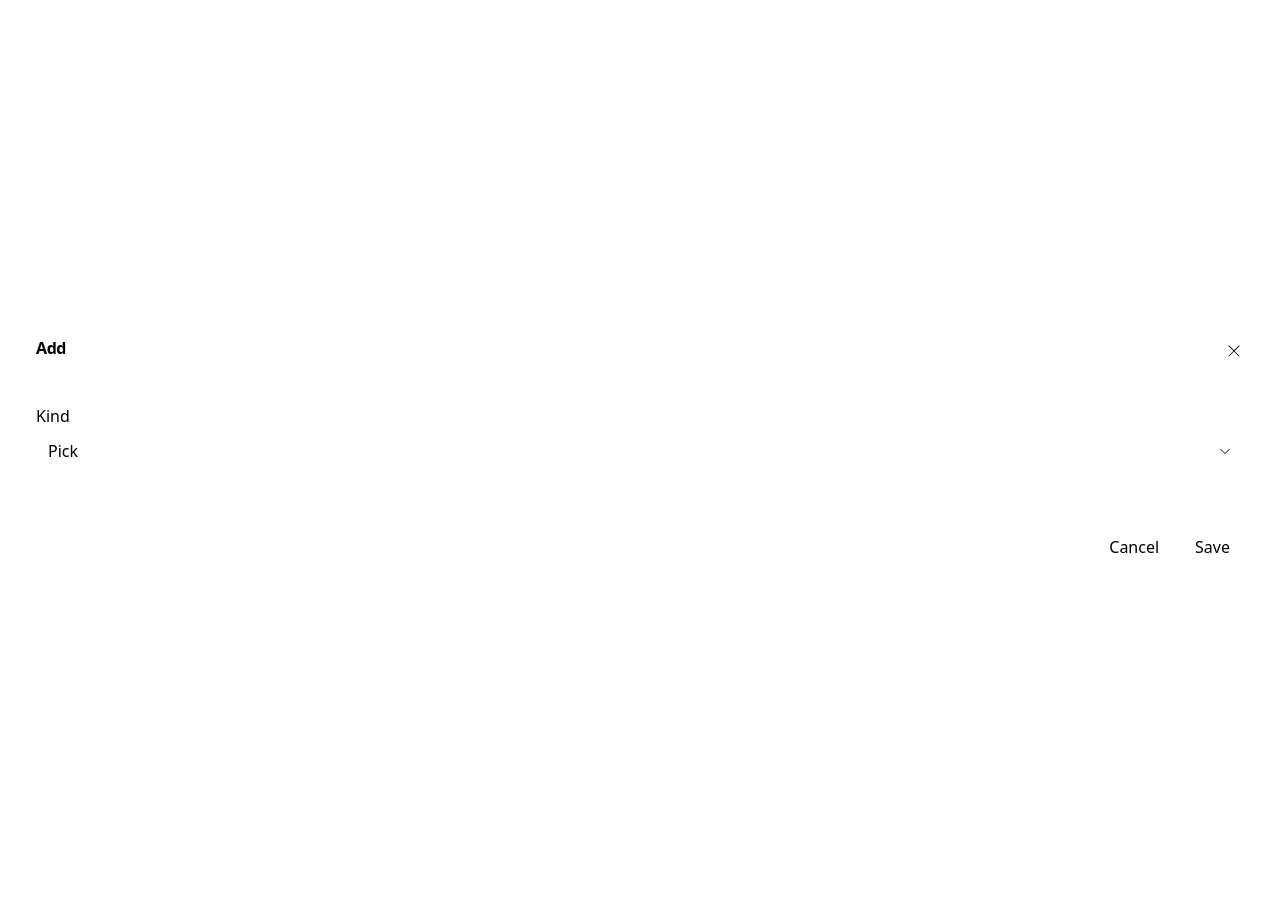
Test: FormDialog refused submit › a Select-only change marks the form dirty
The image size is (1280, 900).
Click the dropdown named "Kind" at (63, 451), box x1=36 y1=433 x2=1244 y2=469
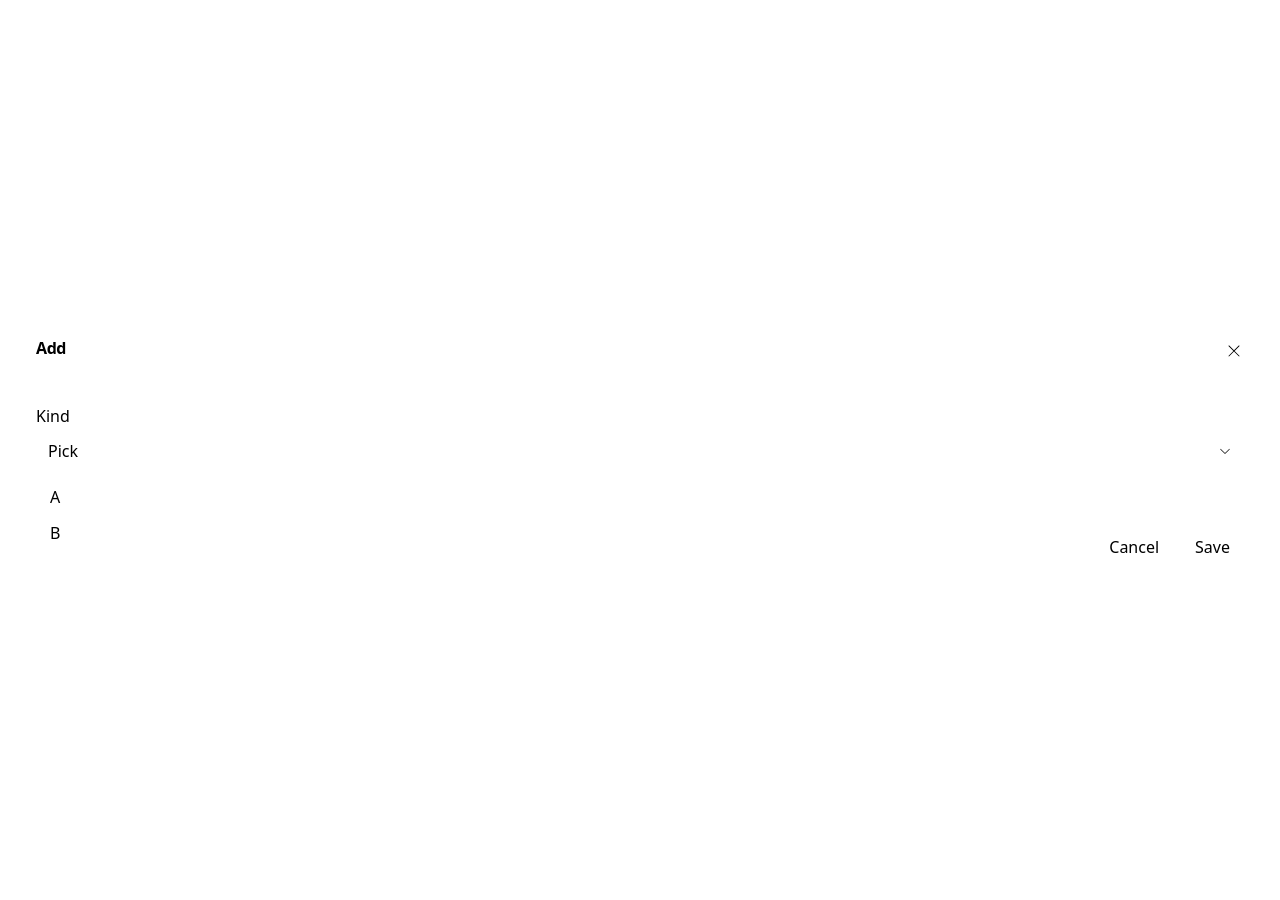
Click the option "B" at (55, 533), box x1=50 y1=522 x2=60 y2=544
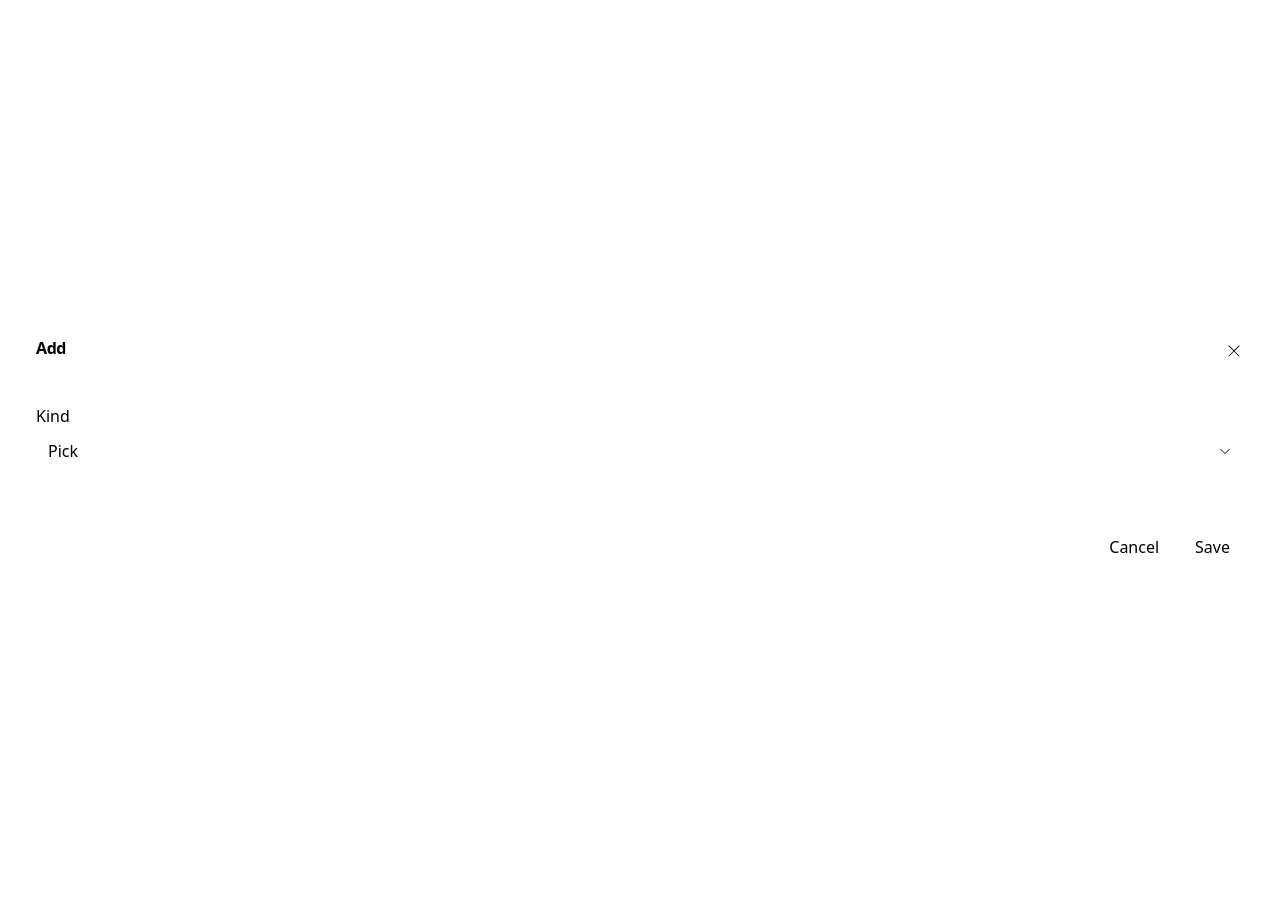
Press Escape
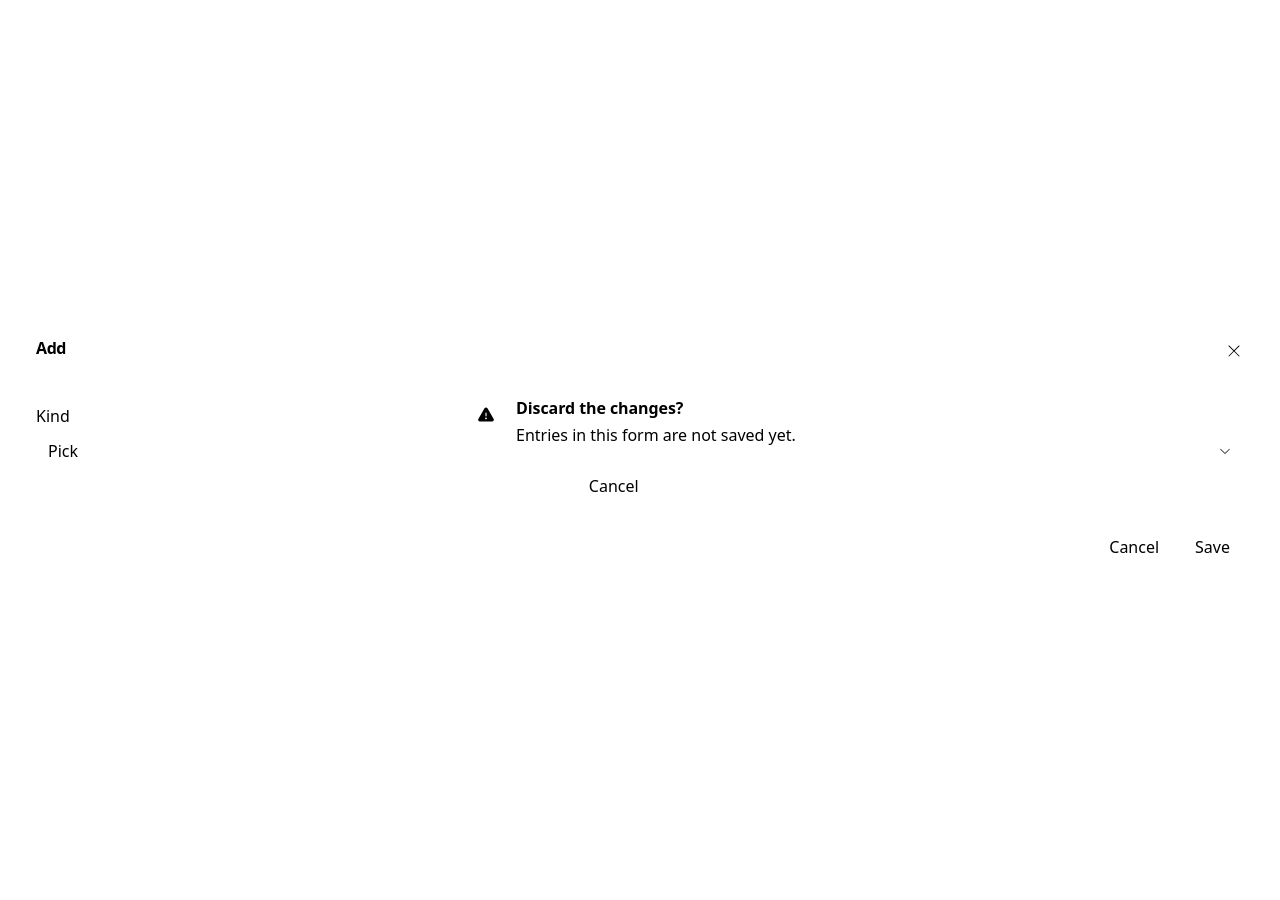
Now the dialog that starts with "Discard the changes?" is shown, box x1=448 y1=377 x2=832 y2=523
